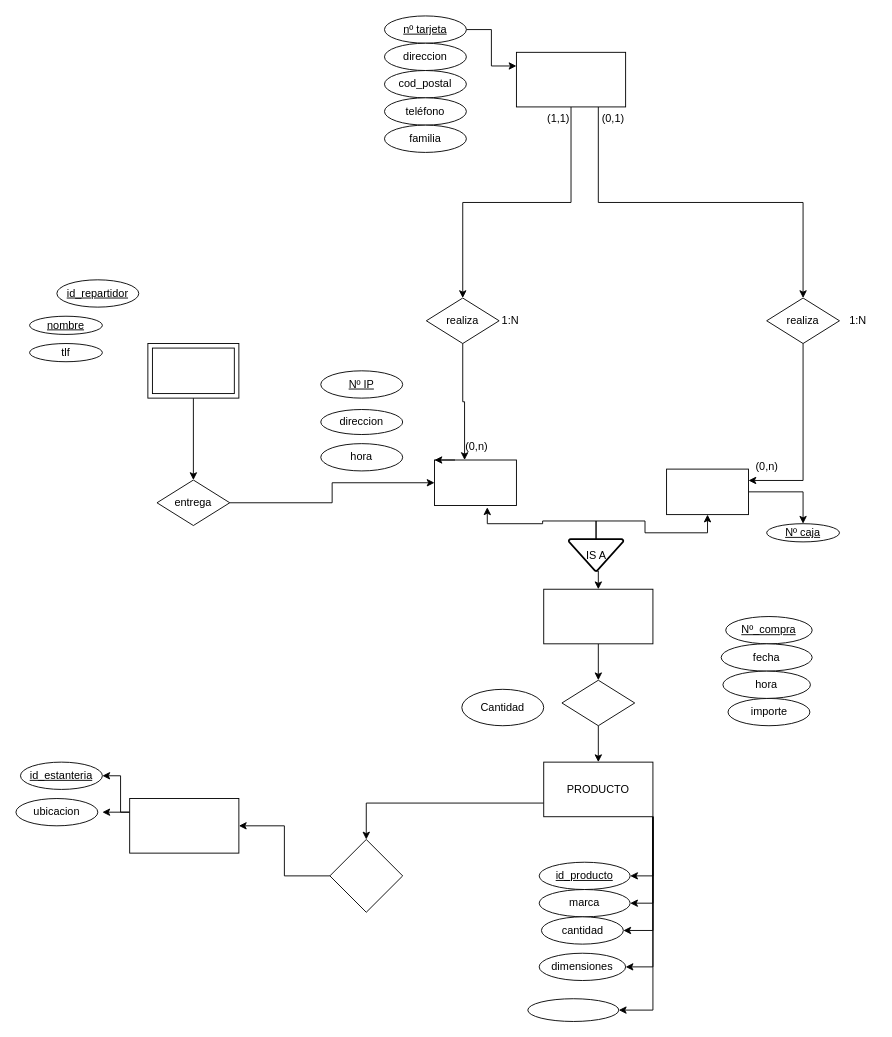
This 892x1037 diagram has some shape labels left out. Each missing label, with the box of its shape:
CLIENTE: (516, 51, 626, 107)
COMPRA: (543, 588, 653, 644)
contiene: (561, 679, 635, 726)
ESTANTERÍA: (129, 798, 239, 853)
Está: (329, 839, 403, 912)
FÍSICA: (666, 468, 748, 515)
ONLINE: (434, 459, 516, 506)
peso: (527, 998, 619, 1021)
REPARTIDOR: (147, 343, 239, 398)
